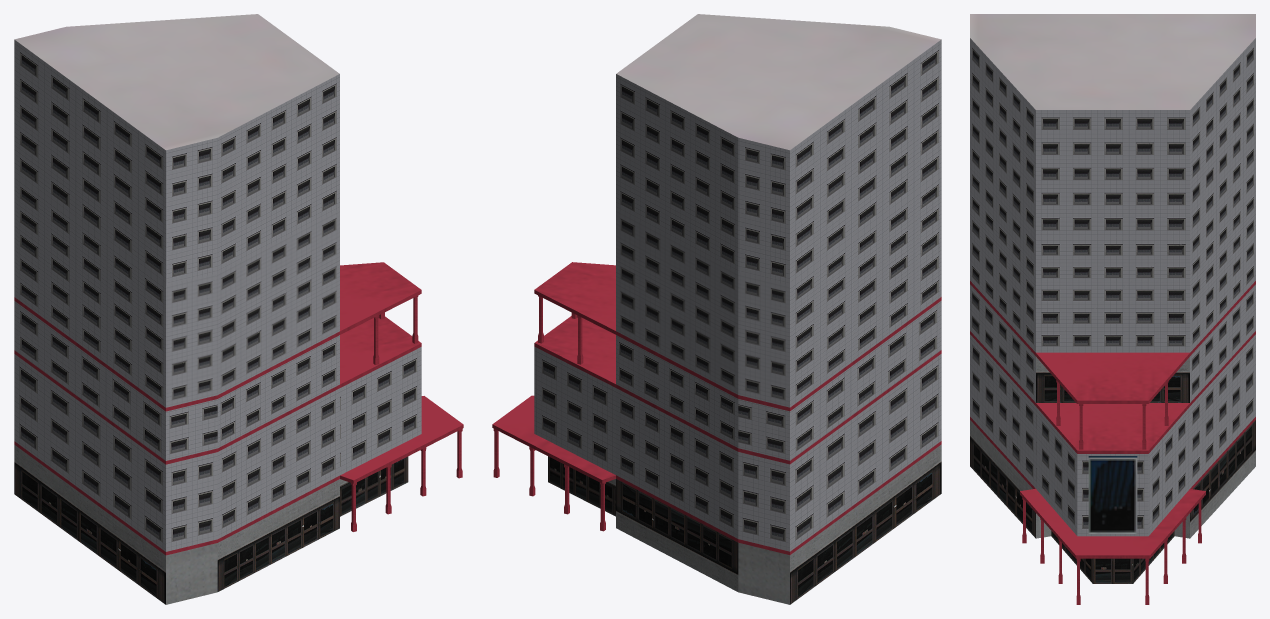
The model's file is Citybuilding11.fbx.
3 views of the same model, side by side, from view 1: azimuth 30°, elevation 25°; view 2: azimuth 150°, elevation 25°; view 3: azimuth 270°, elevation 25° (orthographic). The views are drawn at different scales.
Parts seen in each view (by area): view 1: Citybuilding11; view 2: Citybuilding11; view 3: Citybuilding11.
Boxes of the visible parts, x1,y1,x2,y2 form: Citybuilding11: (14, 14, 463, 604); Citybuilding11: (492, 14, 941, 604); Citybuilding11: (970, 14, 1255, 604).
Size of the model in its own units: 3562 by 4374 by 2642.
